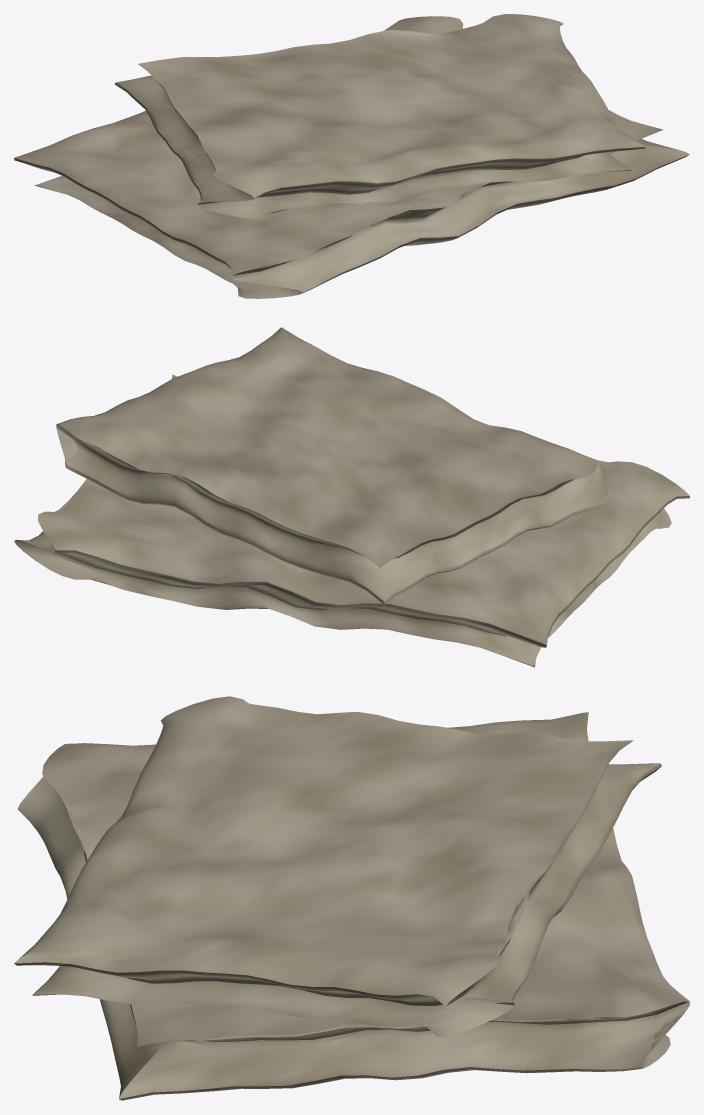
File: cloth.glb
The picture shows the model from 3 angles, top to bottom: view 1: azimuth 30°, elevation 25°; view 2: azimuth 150°, elevation 25°; view 3: azimuth 270°, elevation 25°; orthographic projection. The views are drawn at different scales.
Visible parts, largest first — view 1: cloth; view 2: cloth; view 3: cloth.
Boxes of the visible parts, left/top/right/bottom form: cloth: left=14, top=14, right=689, bottom=298; cloth: left=14, top=327, right=689, bottom=667; cloth: left=14, top=696, right=689, bottom=1100.
Size of the model in its own units: 0.2194 by 0.0355 by 0.1667.
